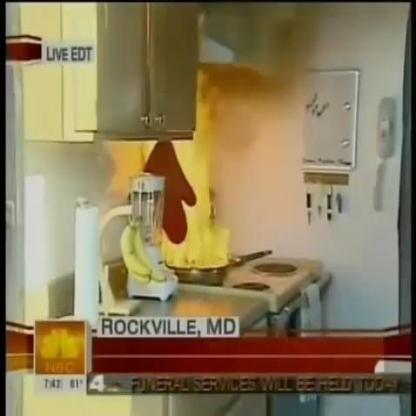fire: (159, 84, 231, 274)
